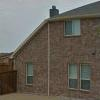Chimney: (41, 1, 61, 22)
